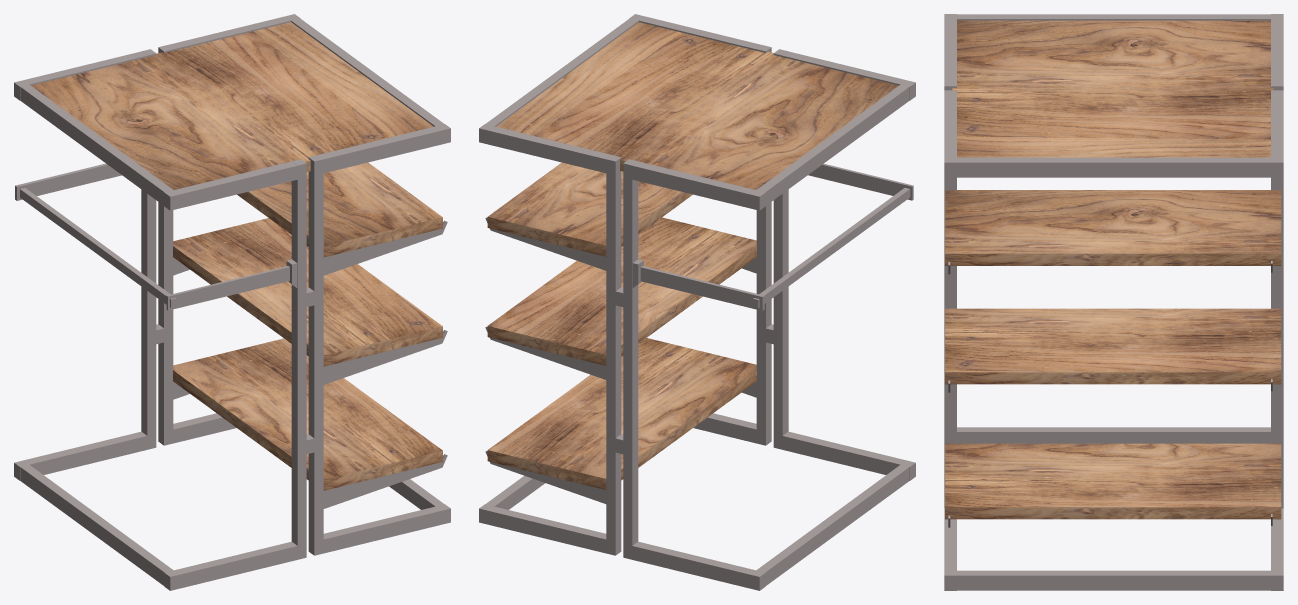
File: dsdds.glb
3 renders of one model, left to right at view 1: azimuth 30°, elevation 25°; view 2: azimuth 150°, elevation 25°; view 3: azimuth 270°, elevation 25°, orthographic. The views are drawn at different scales.
Parts seen in each view (by area): view 1: Mesh_38, Mesh_35, Mesh_36, Mesh_37, Mesh_34, Mesh_33, Mesh_27, Mesh_28, Mesh_30, Mesh_31, Mesh_14, Mesh_23 (+14 smaller); view 2: Mesh_38, Mesh_35, Mesh_36, Mesh_37, Mesh_28, Mesh_27, Mesh_33, Mesh_34, Mesh_30, Mesh_31, Mesh_4, Mesh_1 (+14 smaller); view 3: Mesh_38, Mesh_35, Mesh_36, Mesh_37, Mesh_25, Mesh_29, Mesh_31, Mesh_28, Mesh_30, Mesh_34, Mesh_12, Mesh_6 (+4 smaller).
Boxes of the visible parts, x1,y1,x2,y2 form: Mesh_38: (31, 22, 433, 189); Mesh_35: (173, 338, 442, 490); Mesh_36: (173, 218, 442, 366); Mesh_37: (237, 162, 442, 257); Mesh_34: (308, 155, 323, 555); Mesh_33: (291, 159, 306, 559); Mesh_27: (141, 49, 156, 449); Mesh_28: (158, 45, 173, 445); Mesh_30: (20, 84, 173, 205); Mesh_31: (20, 464, 173, 585); Mesh_14: (164, 161, 297, 210); Mesh_23: (164, 541, 297, 590); Mesh_38: (496, 22, 898, 189); Mesh_35: (487, 338, 756, 489); Mesh_36: (487, 217, 756, 365); Mesh_37: (487, 162, 692, 256); Mesh_28: (606, 155, 621, 555); Mesh_27: (623, 159, 638, 559); Mesh_33: (773, 49, 788, 449); Mesh_34: (756, 45, 771, 445); Mesh_30: (756, 84, 909, 205); Mesh_31: (756, 464, 909, 585); Mesh_4: (632, 161, 765, 210); Mesh_1: (632, 541, 765, 590); Mesh_38: (952, 20, 1273, 157); Mesh_35: (945, 443, 1281, 519); Mesh_36: (945, 308, 1281, 384); Mesh_37: (945, 190, 1281, 265); Mesh_25: (956, 570, 1272, 590); Mesh_29: (956, 157, 1272, 177); Mesh_31: (957, 427, 1270, 443); Mesh_28: (1271, 90, 1283, 508); Mesh_30: (956, 14, 1272, 20); Mesh_34: (944, 90, 956, 508); Mesh_12: (944, 95, 956, 177); Mesh_6: (1271, 95, 1283, 177).
Bounding box in the file's own units: 0.5942 × 0.795 × 0.5709.
2 materials, 1 textured.
